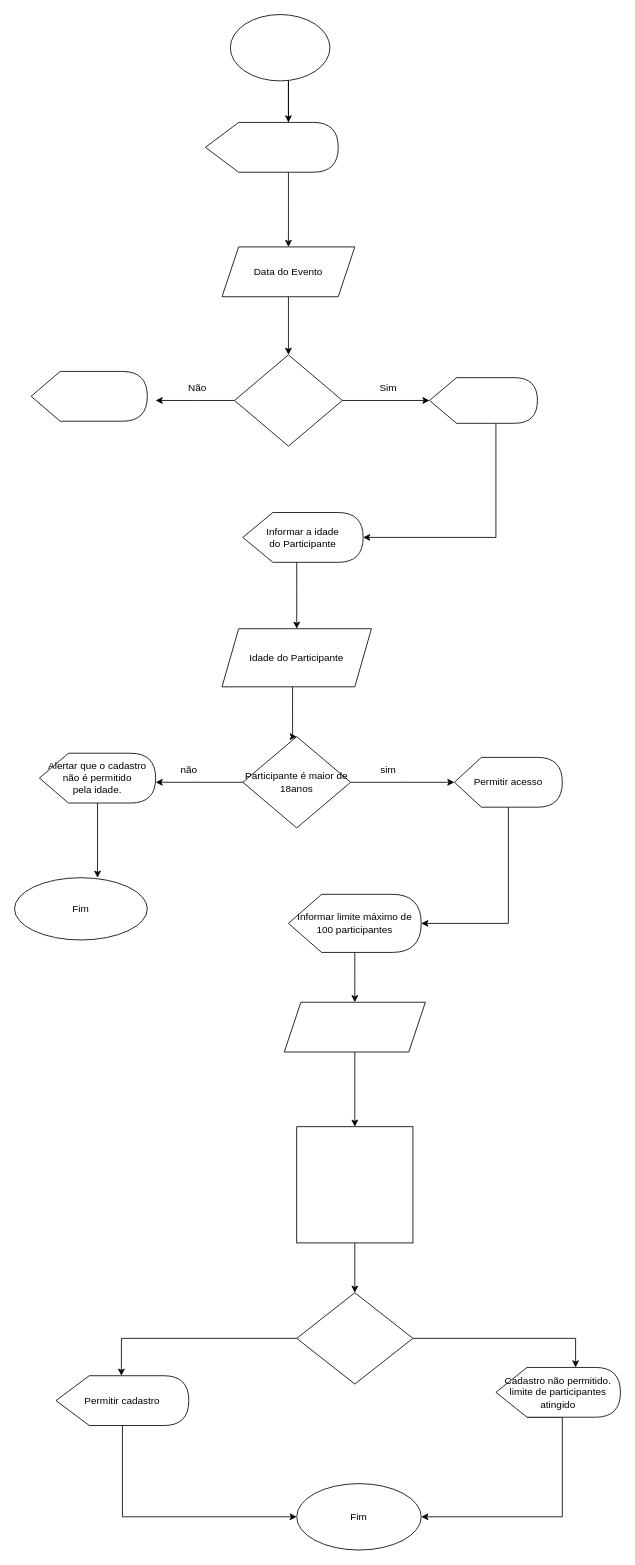
Image size: 635x1565. Some labels were removed from this diagram. The centre of each missing label's shape, as x and y in pixels:
"Atingiu o limite de 100 participantes?" goes at (354,1338).
"Cadastro do participante" goes at (354,1026).
"Data do Evento posterior a data atual?" goes at (288,400).
"Informar a data do evento" goes at (271,147).
"Permitir evento" goes at (483,400).
"Ínicio" goes at (279,47).
